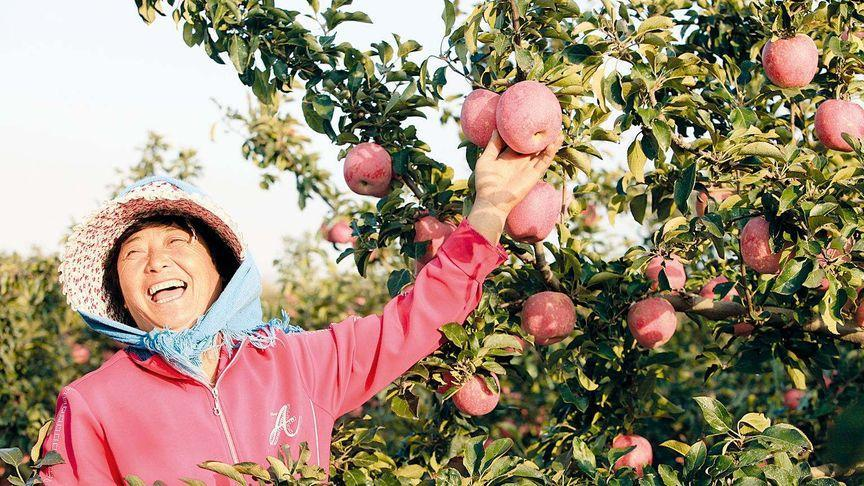apple: (497, 77, 564, 156), (504, 179, 562, 245), (737, 216, 800, 273), (761, 33, 819, 90), (520, 290, 577, 343), (626, 296, 677, 351), (342, 144, 393, 198), (815, 100, 863, 154), (449, 375, 501, 417), (609, 433, 655, 472)
